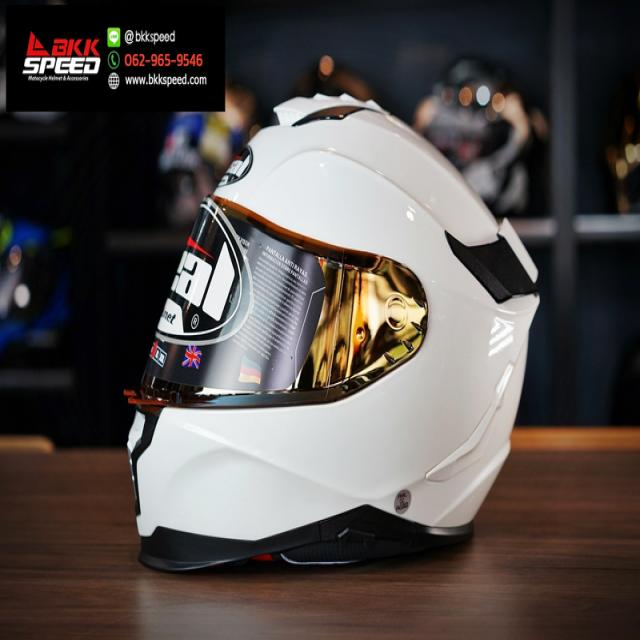Helmet: (116, 81, 544, 607)
